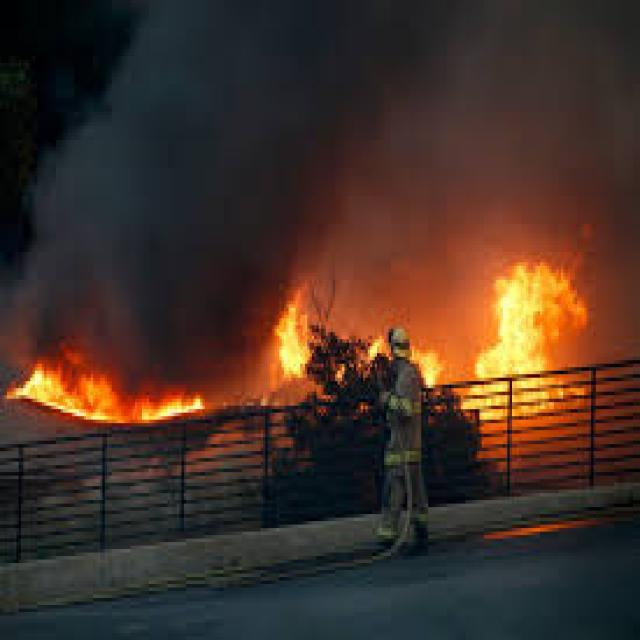Fire: (461, 260, 588, 422), (7, 341, 205, 423), (274, 290, 314, 379), (409, 346, 447, 390)
